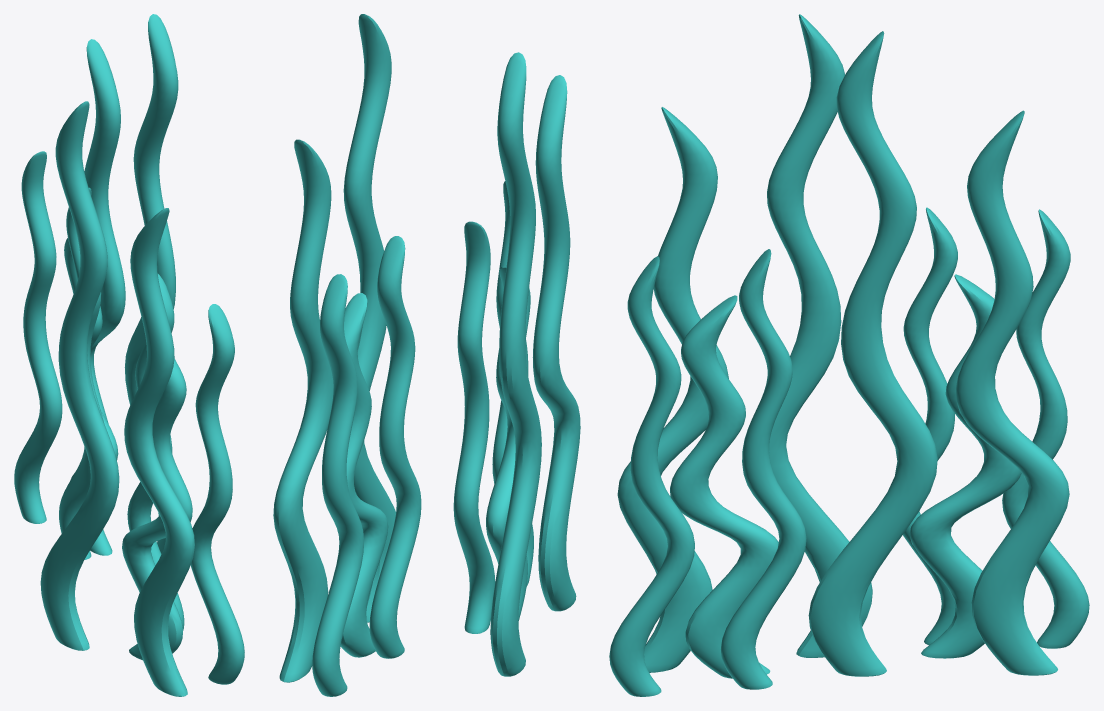
File: plant2.fbx
3 views of the same model, side by side, from view 1: azimuth 30°, elevation 25°; view 2: azimuth 150°, elevation 25°; view 3: azimuth 270°, elevation 25° (orthographic). The views are drawn at different scales.
Parts seen in each view (by area): view 1: plant2_1, plant2; view 2: plant2, plant2_1; view 3: plant2, plant2_1.
Part boxes in pixels (x1,y1,x2,y2): plant2_1: (40,101,244,696); plant2: (14,14,178,559); plant2: (273,14,421,696); plant2_1: (453,52,580,676); plant2: (808,31,1089,676); plant2_1: (609,14,872,696).
Size of the model in its own units: 6.26 by 26.71 by 17.03.
